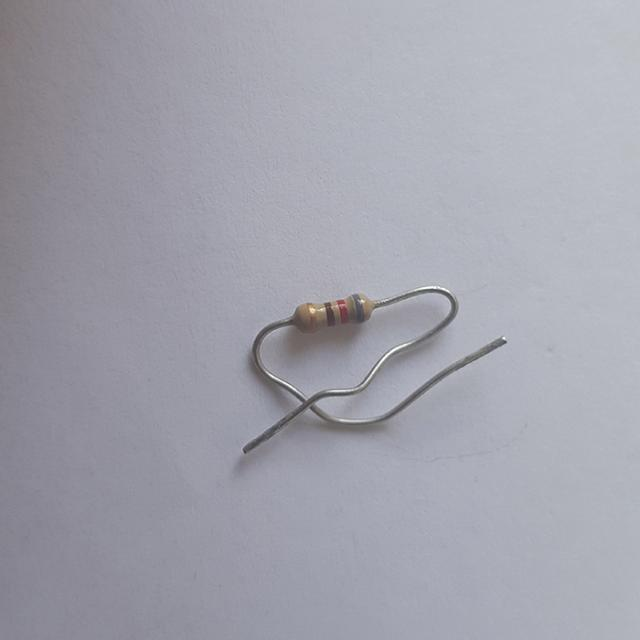brown: (324, 302, 335, 325)
gold: (308, 303, 318, 330)
grey: (354, 296, 365, 322)
red: (338, 299, 349, 322)
resistor: (287, 293, 376, 332)
